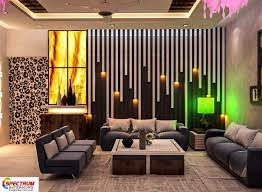Sofa: (201, 119, 262, 189), (97, 112, 193, 151), (34, 122, 98, 178)
Table: (105, 133, 191, 178)
